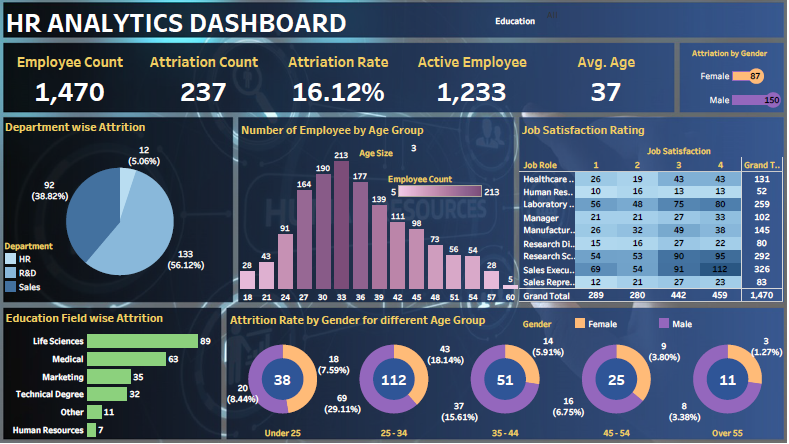

Layout of this report page (visuals, bound fields, positions):
{"tool":"tableau","page":{"name":"HR ANALYTICS DASHBOARD","canvas":[1180,700],"ordinal":0},"visuals":[{"type":"image","param":"C:/Users/Rakesh Jadhav/Desktop/HR background.png","box":[8,8,32,684]},{"type":"image","param":"C:/Users/Rakesh Jadhav/Desktop/ALL DATASET/TABLEAU PROJECTS/background images/Sl","box":[40,8,1132,684]},{"type":"text","box":[50,40,1117,49]},{"type":"filter","title":"Department wise Attrition","param":"[federated.0ovn82v0u7dj6s1c5xaf600lw1kk].[none:Education:nk]","box":[752,47,186,35]},{"type":"worksheet","title":"Attriation by Gender","mark":"Automatic","rows":["Gender"],"cols":["Calculation_732397902235181056","Calculation_732397902235181056"],"box":[1011,96,151,98]},{"type":"worksheet","title":"KPI","mark":"Automatic","box":[49,97,957,95]},{"type":"worksheet","title":"Department wise Attrition","mark":"Pie","box":[48,199,336,267]},{"type":"worksheet","title":"Number of Employee by Age Group","mark":"Automatic","rows":["Employee Count"],"cols":["Age (bin)"],"box":[385,203,402,264]},{"type":"worksheet","title":"Job Satisfaction Rating","mark":"Square","rows":["Job Role"],"cols":["Job Satisfaction"],"box":[786,203,377,263]},{"type":"parameter","param":"[Parameters].[Parameter 1]","box":[558.1,238,188.8,30.3]},{"type":"legend","title":"Number of Employee by Age Group","param":"[federated.0ovn82v0u7dj6s1c5xaf600lw1kk].[sum:Employee Count:qk]","box":[599.4,276.5,164,43.2]},{"type":"legend","title":"Department wise Attrition","param":"[federated.0ovn82v0u7dj6s1c5xaf600lw1kk].[none:Department:nk]","box":[50,376,90,87]},{"type":"worksheet","title":"Education Field wise Attrition","mark":"Automatic","rows":["Education Field"],"cols":["Calculation_732397902235181056"],"box":[49,472,310,189]},{"type":"worksheet","title":"Attrition Rate by Gender for different Age Group","mark":"Pie","rows":["Calculation_678073232408682497","Calculation_678073232408682497"],"cols":["CF_age band"],"box":[369,474,794,187]},{"type":"legend","title":"Attrition Rate by Gender for different Age Group","param":"[federated.0ovn82v0u7dj6s1c5xaf600lw1kk].[none:Gender:nk]","box":[791,486,360,32]}]}

Visuals, with their boxes on the page's 1180x700 design canvas (x1, y1, x2, y2). These are canvas units, not pixel positions in the 789x444 screenshot, which may show the page scaled, cropped or inside an application window:
image: bbox=[8, 8, 40, 692]
image: bbox=[40, 8, 1172, 692]
text: bbox=[50, 40, 1167, 89]
"Department wise Attrition" filter: bbox=[752, 47, 938, 82]
"Attriation by Gender" worksheet: bbox=[1011, 96, 1162, 194]
"KPI" worksheet: bbox=[49, 97, 1006, 192]
"Department wise Attrition" worksheet (Pie marks): bbox=[48, 199, 384, 466]
"Number of Employee by Age Group" worksheet: bbox=[385, 203, 787, 467]
"Job Satisfaction Rating" worksheet (Square marks): bbox=[786, 203, 1163, 466]
parameter: bbox=[558, 238, 747, 268]
"Number of Employee by Age Group" legend: bbox=[599, 276, 763, 320]
"Department wise Attrition" legend: bbox=[50, 376, 140, 463]
"Education Field wise Attrition" worksheet: bbox=[49, 472, 359, 661]
"Attrition Rate by Gender for different Age Group" worksheet (Pie marks): bbox=[369, 474, 1163, 661]
"Attrition Rate by Gender for different Age Group" legend: bbox=[791, 486, 1151, 518]
